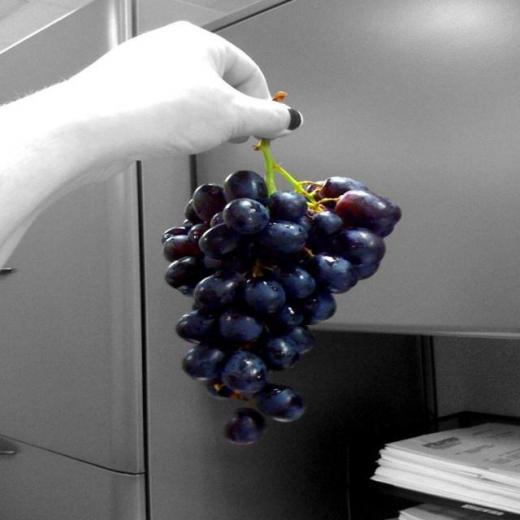Orange: (160, 170, 397, 445)
